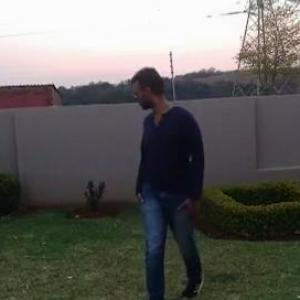follow: (129, 59, 207, 291)
